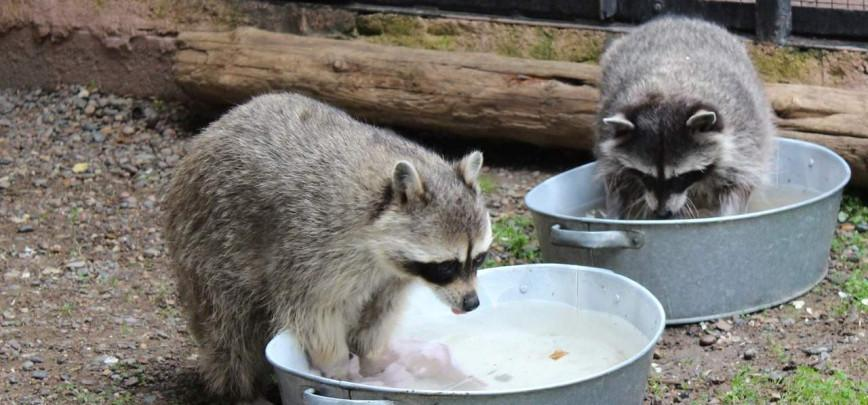raccoon: (161, 89, 492, 398), (592, 9, 778, 232)
